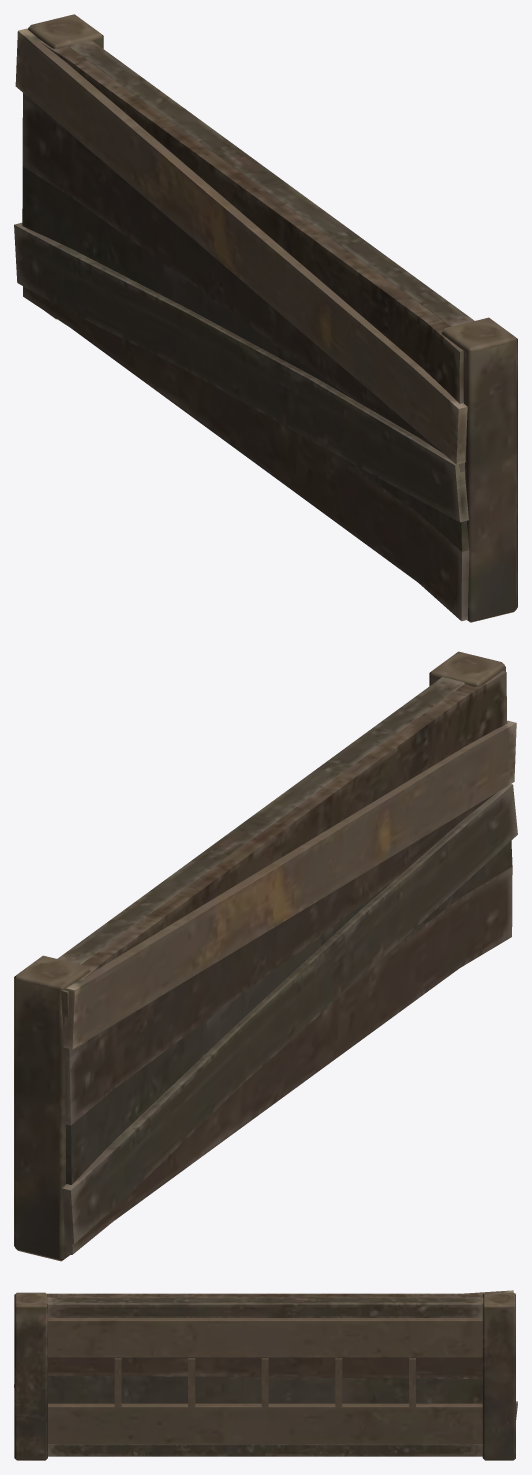
Rendered from wall.low.frontier_variant_b.glb.
3 views of the same model, one above another, from view 1: azimuth 30°, elevation 25°; view 2: azimuth 150°, elevation 25°; view 3: azimuth 270°, elevation 25° (orthographic). The views are drawn at different scales.
Visible parts, largest first — view 1: wall.third_b_LOD0; view 2: wall.third_b_LOD0; view 3: wall.third_b_LOD0.
Part boxes in pixels (bbox=[...]): wall.third_b_LOD0: bbox=[14, 14, 517, 622]; wall.third_b_LOD0: bbox=[14, 651, 517, 1261]; wall.third_b_LOD0: bbox=[14, 1290, 517, 1460].
Size of the model in its own units: 0.2414 by 1.03 by 3.01.
1 material, 1 textured.
